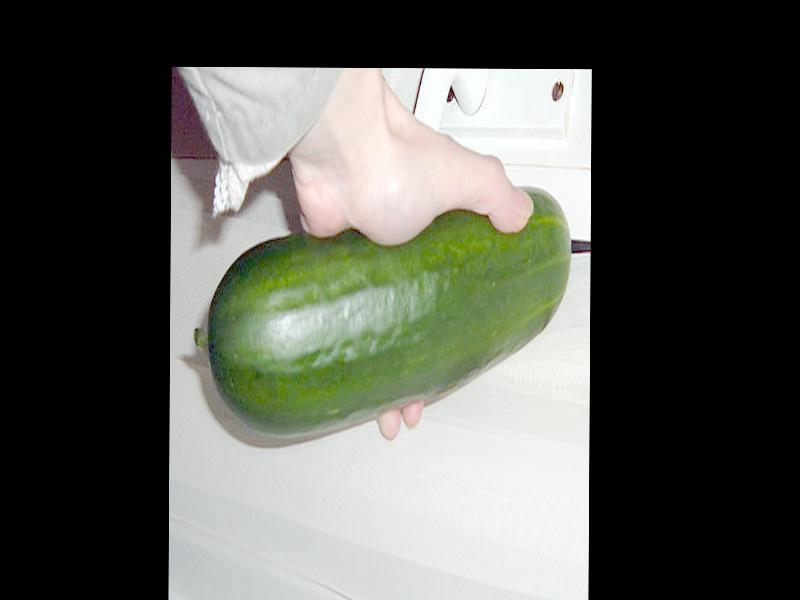Cucumber: (192, 186, 571, 448)
